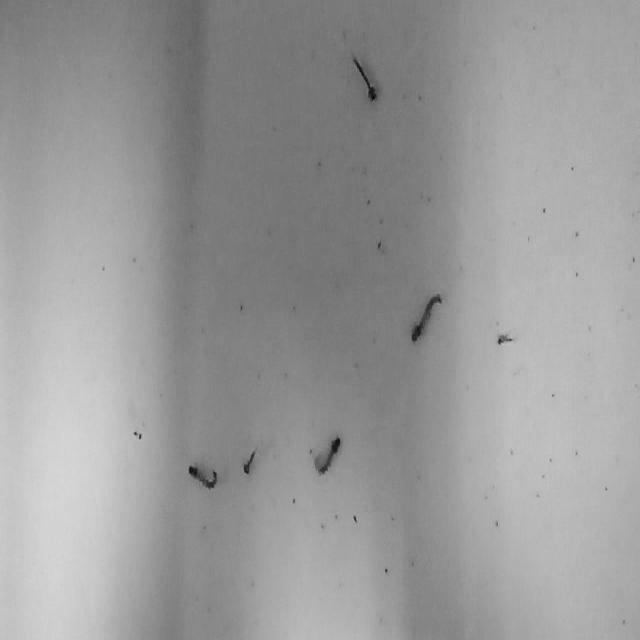larvas: (411, 294, 442, 340), (352, 57, 377, 100), (314, 436, 340, 474), (188, 466, 218, 488), (243, 450, 255, 474), (497, 333, 513, 344)
